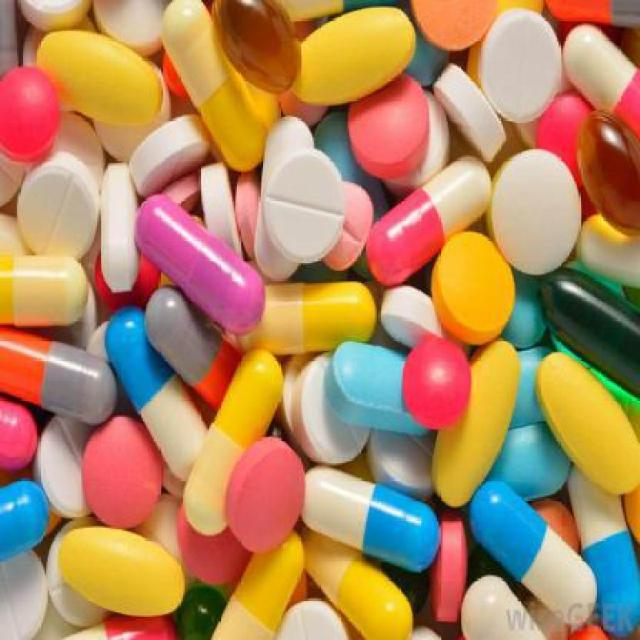B3: (0, 4, 640, 639)
